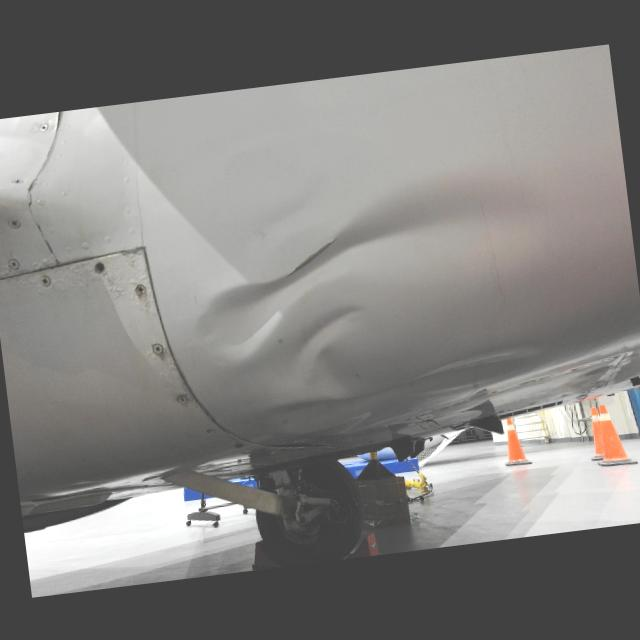Missing Fastener: (88, 254, 109, 278)
dent: (157, 154, 578, 382), (245, 329, 558, 438), (245, 299, 374, 402)
